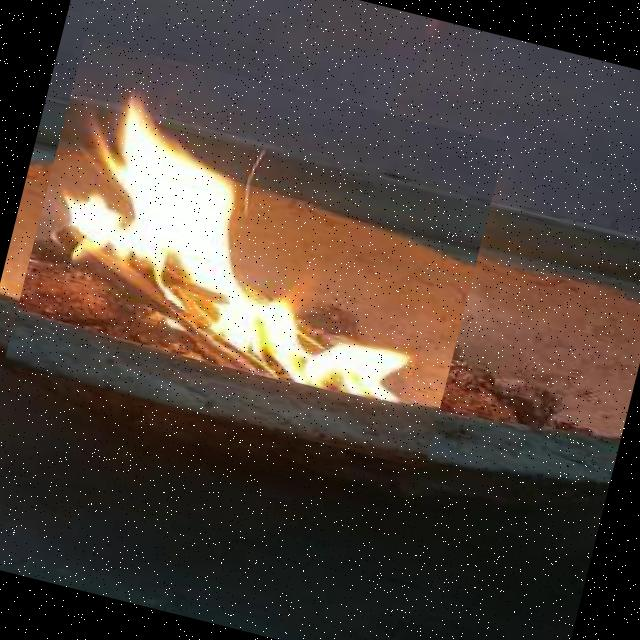fire: (3, 38, 505, 468)
